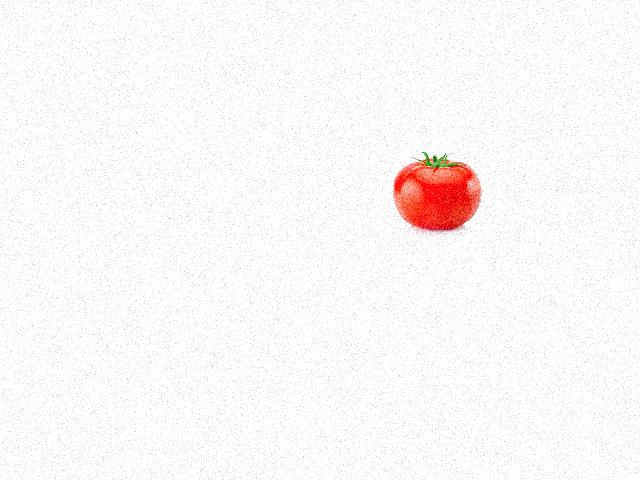tomato: (392, 159, 481, 228)
